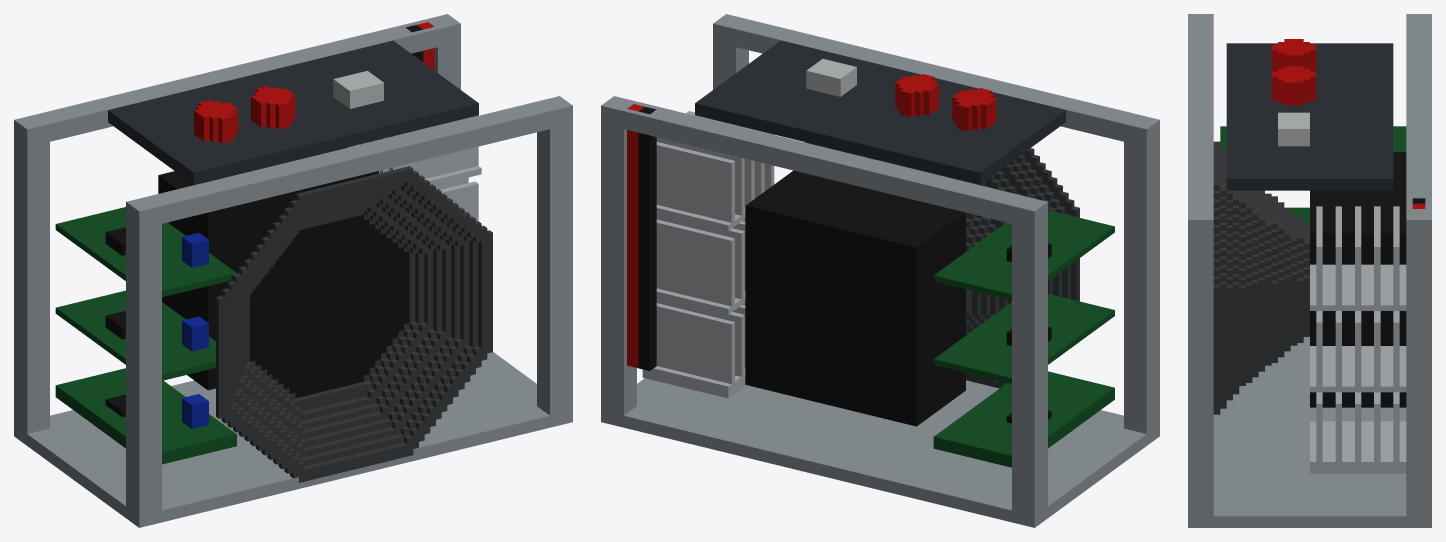
Rendered from noise_emitter_super.glb.
3 renders of one model, left to right at view 1: azimuth 30°, elevation 25°; view 2: azimuth 150°, elevation 25°; view 3: azimuth 270°, elevation 25°, orthographic. The views are drawn at different scales.
Visible parts, largest first — view 1: noise_emitter_super:compound; view 2: noise_emitter_super:compound; view 3: noise_emitter_super:compound.
Part boxes in pixels (<box>): noise_emitter_super:compound: <box>14,14,572,527</box>; noise_emitter_super:compound: <box>601,14,1159,527</box>; noise_emitter_super:compound: <box>1188,14,1431,527</box>.
Bounding box in the file's own units: 0.304 × 0.232 × 0.152.
